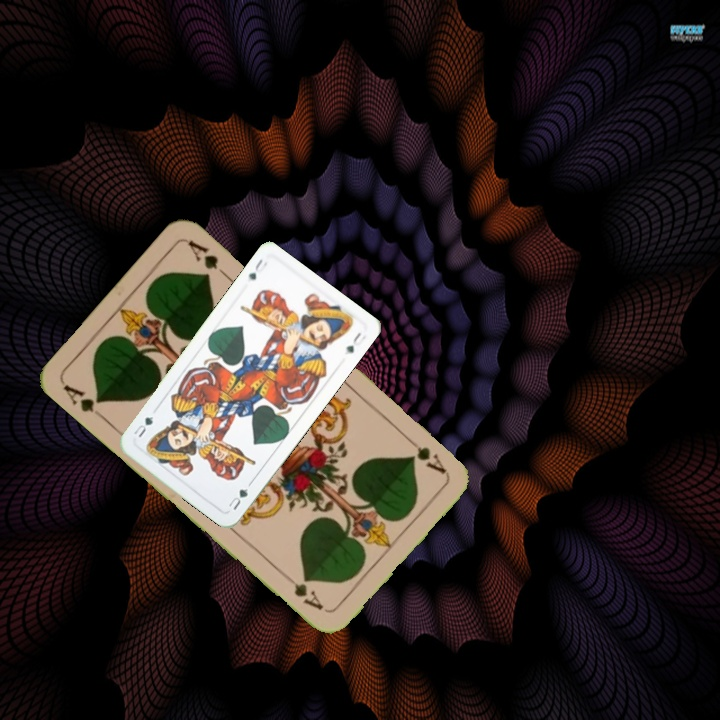GA: (58, 380, 109, 424), (400, 432, 449, 477)
GU: (223, 484, 251, 513), (244, 254, 270, 283)
